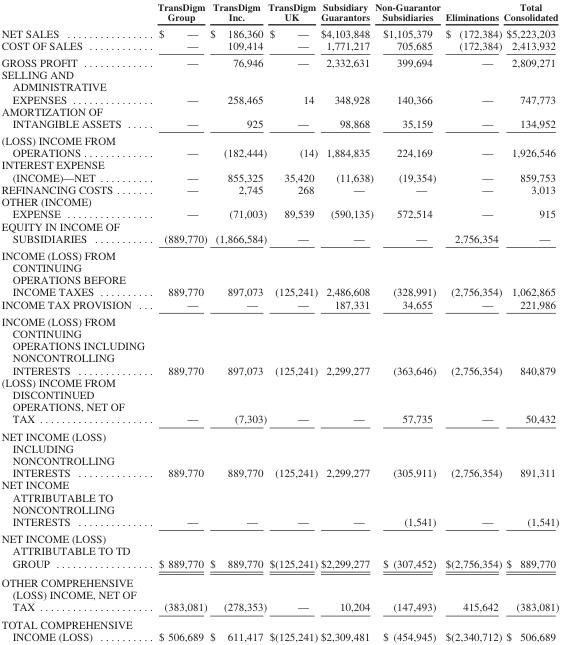table: (0, 0, 558, 642)
table column: (0, 0, 150, 642), (373, 0, 442, 642), (442, 0, 502, 642), (207, 0, 266, 642), (150, 0, 207, 642), (502, 0, 558, 642), (318, 0, 373, 642), (266, 0, 318, 642)
table column header: (0, 0, 558, 24)
table row: (0, 312, 558, 375), (0, 375, 558, 427), (0, 246, 558, 297), (0, 427, 558, 478), (0, 478, 558, 529), (0, 529, 558, 572), (0, 572, 558, 615), (0, 68, 558, 104), (0, 104, 558, 131), (0, 131, 558, 158), (0, 219, 558, 246), (0, 615, 558, 642), (0, 158, 558, 183), (0, 0, 558, 24), (0, 195, 558, 219), (0, 38, 558, 53), (0, 53, 558, 68), (0, 297, 558, 312), (0, 24, 558, 38), (0, 183, 558, 195)
